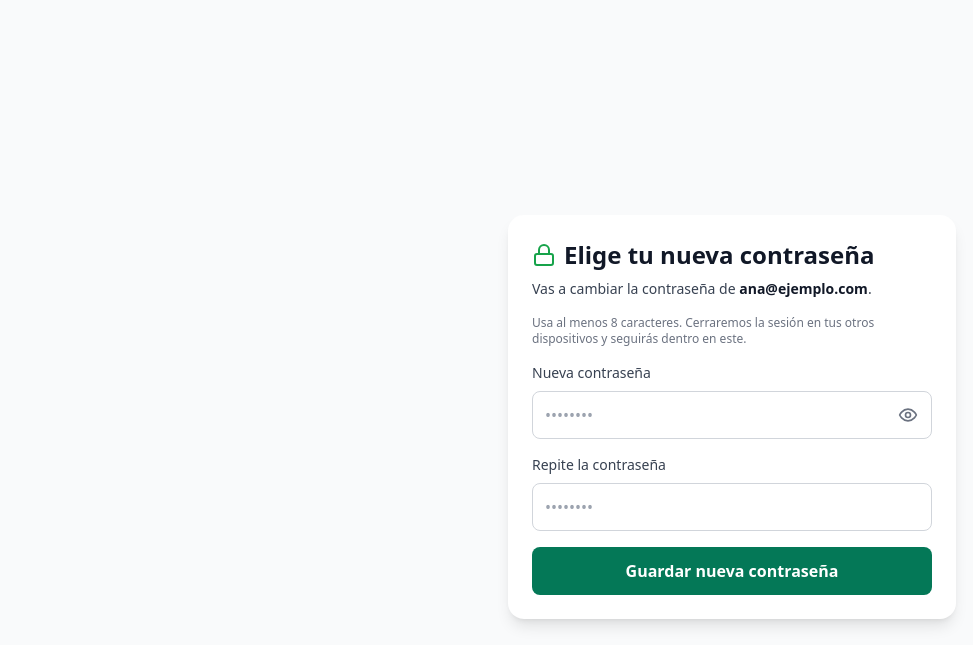
it: ResetPassword (QA-040: clara, y dice de qué cuenta es) › guarda la contraseña, cierra las otras sesiones y entra a su inicio con un aviso claro
Expected: the text "ana@ejemplo.com" is shown, x1=739 y1=279 x2=868 y2=298
Type "larguisima1" into the password field labelled "Nueva contraseña" at (732, 415), box x1=532 y1=391 x2=932 y2=439
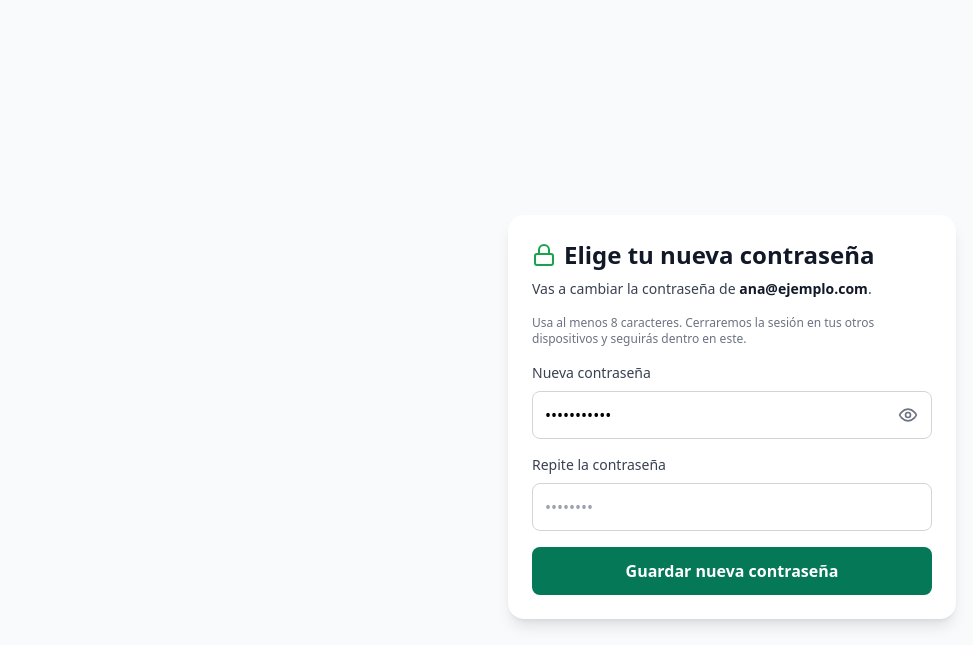
Type "larguisima1" into the password field labelled "Repite la contraseña" at (732, 507), box x1=532 y1=483 x2=932 y2=531
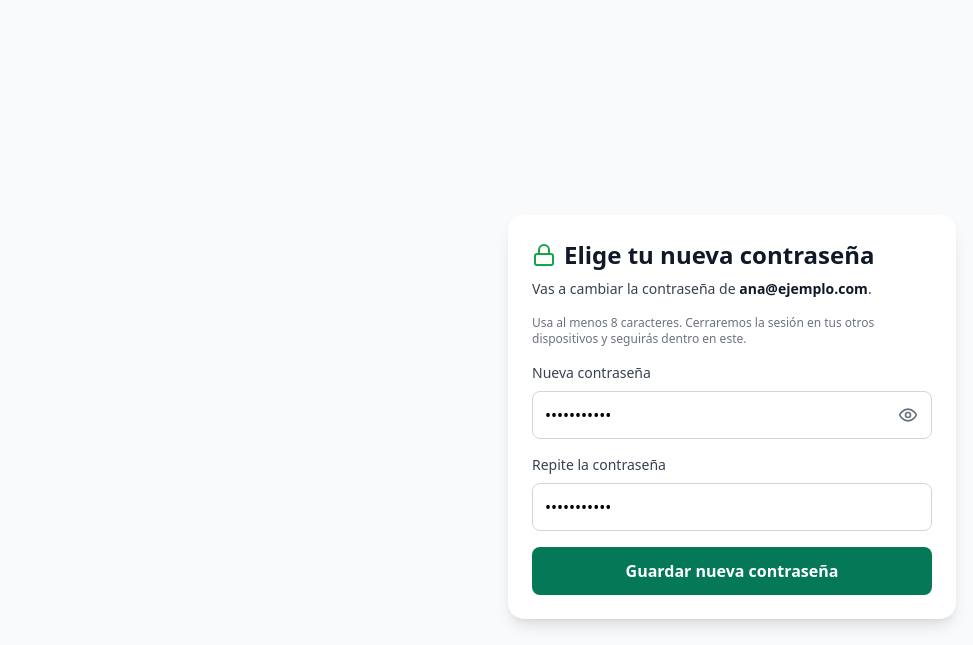
Click the button "Guardar nueva contraseña" at (732, 571), box x1=532 y1=547 x2=932 y2=595
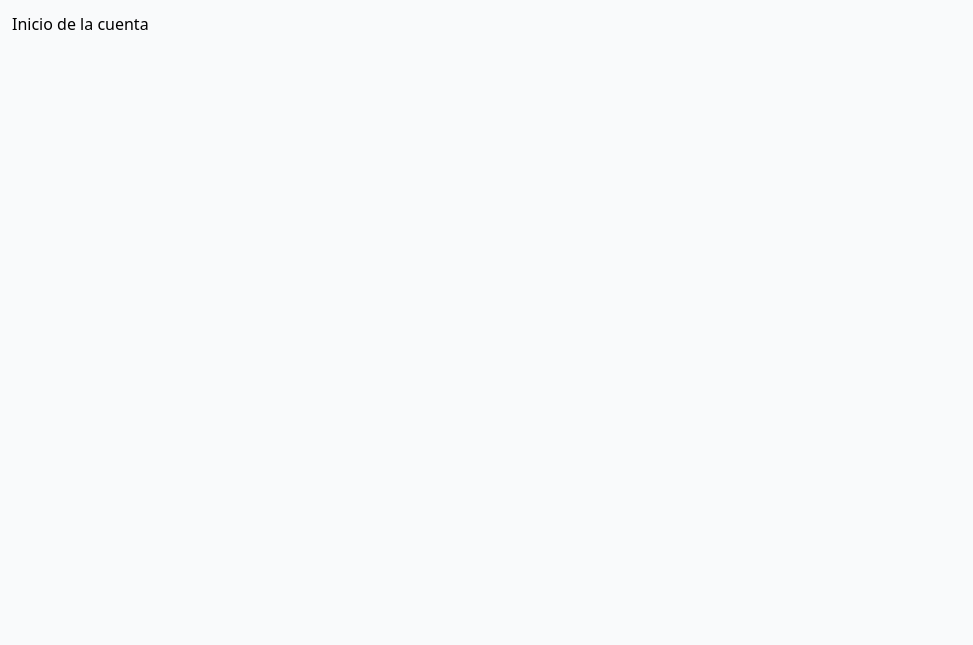
Now the text "Inicio de la cuenta" is shown, box x1=12 y1=13 x2=149 y2=35
